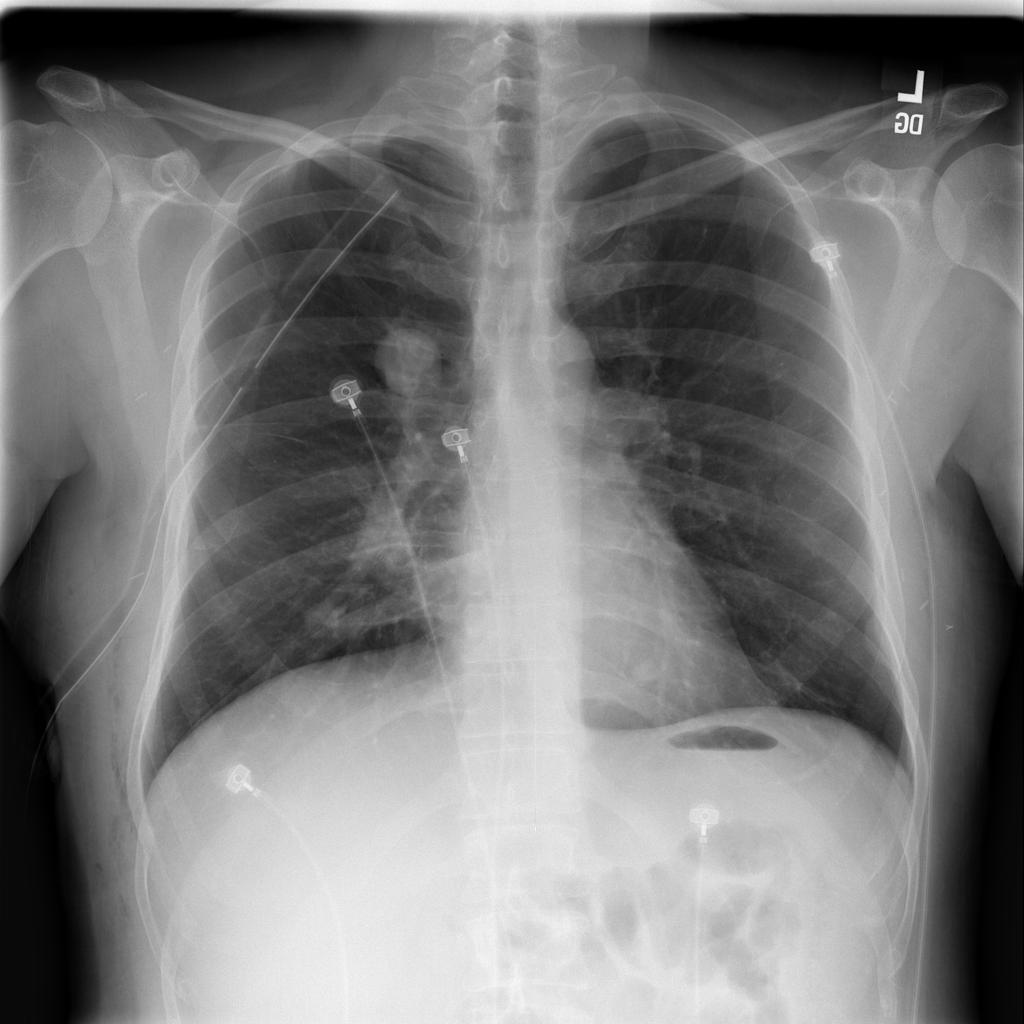nodule: (355, 313, 456, 408), (621, 642, 672, 692)
